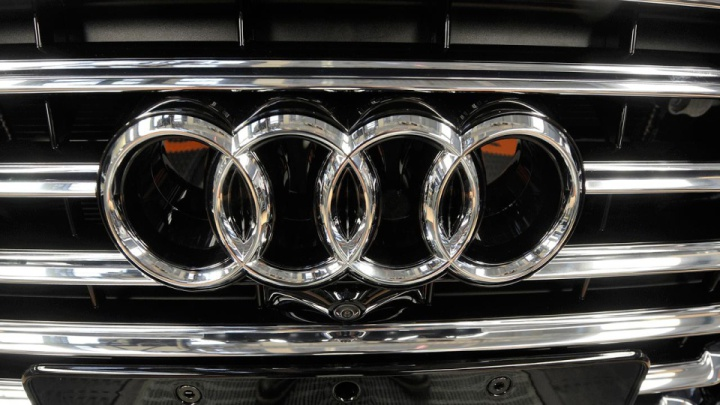audi: (87, 84, 597, 293)
